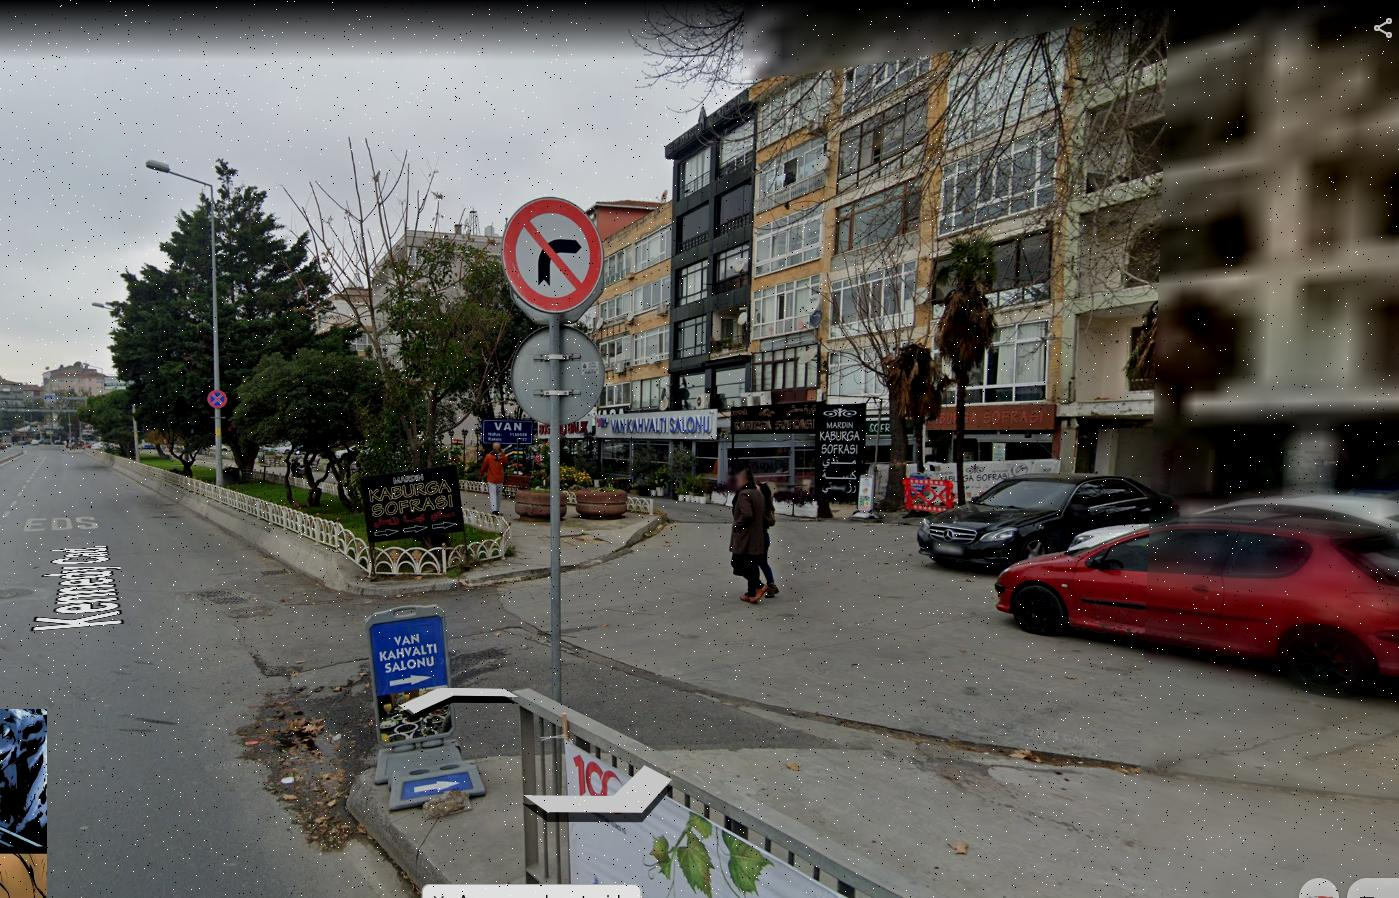rightturnsareforbidden: (504, 212, 605, 311)
